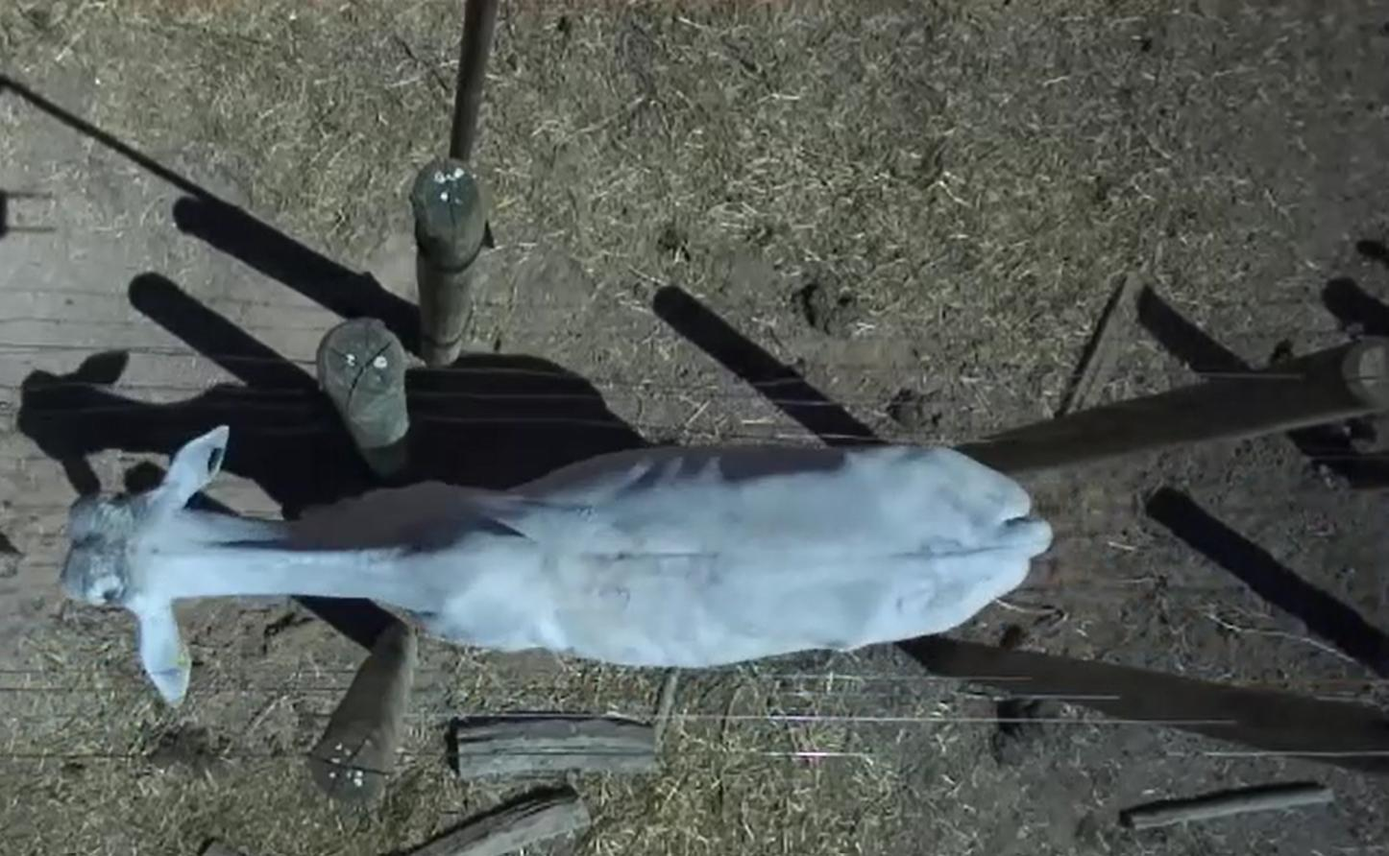cattle: (50, 413, 1058, 718)
